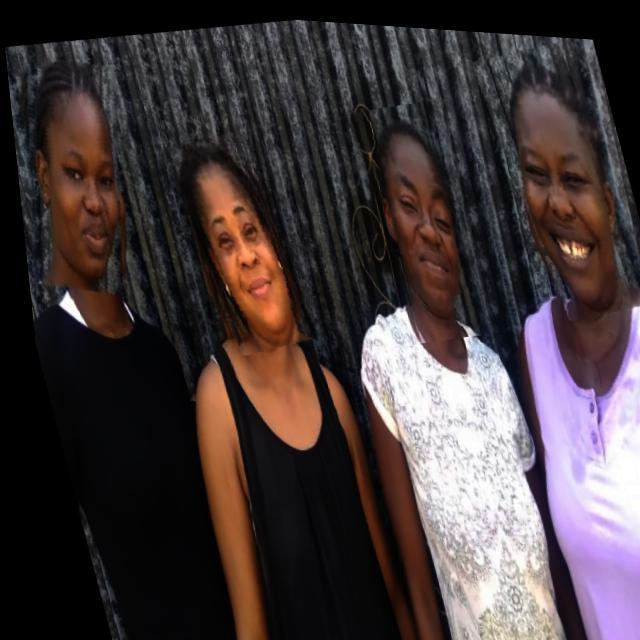happy: (474, 28, 640, 320), (4, 46, 155, 305), (161, 124, 307, 358), (349, 92, 485, 343)
